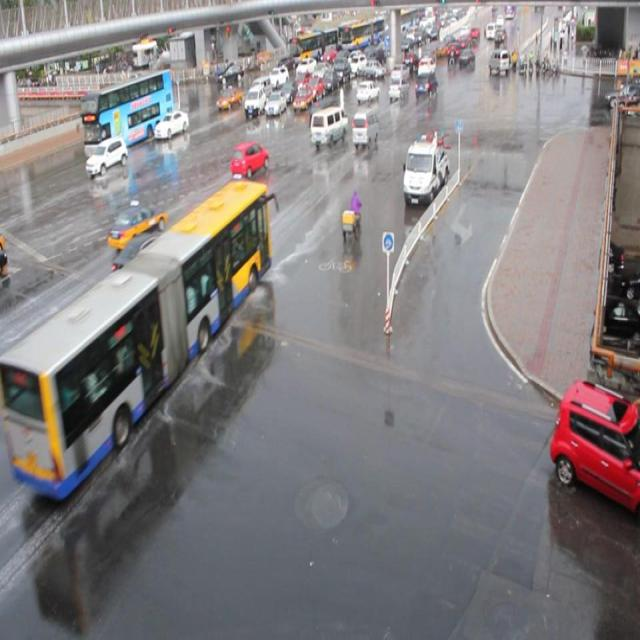bus: (402, 136, 448, 205)
car: (548, 378, 640, 524), (111, 230, 182, 294), (107, 199, 167, 249), (213, 172, 261, 218), (86, 136, 128, 175), (230, 140, 269, 176), (308, 98, 341, 132), (154, 110, 189, 138), (216, 85, 242, 109), (355, 79, 380, 102), (264, 92, 286, 117), (292, 86, 312, 112), (387, 76, 409, 99), (268, 65, 288, 89), (305, 77, 324, 101), (279, 80, 298, 103), (292, 72, 311, 93)
truck: (309, 105, 348, 147), (351, 106, 378, 149), (246, 84, 268, 116), (248, 75, 272, 103)
van: (11, 180, 271, 501), (81, 68, 175, 156)
